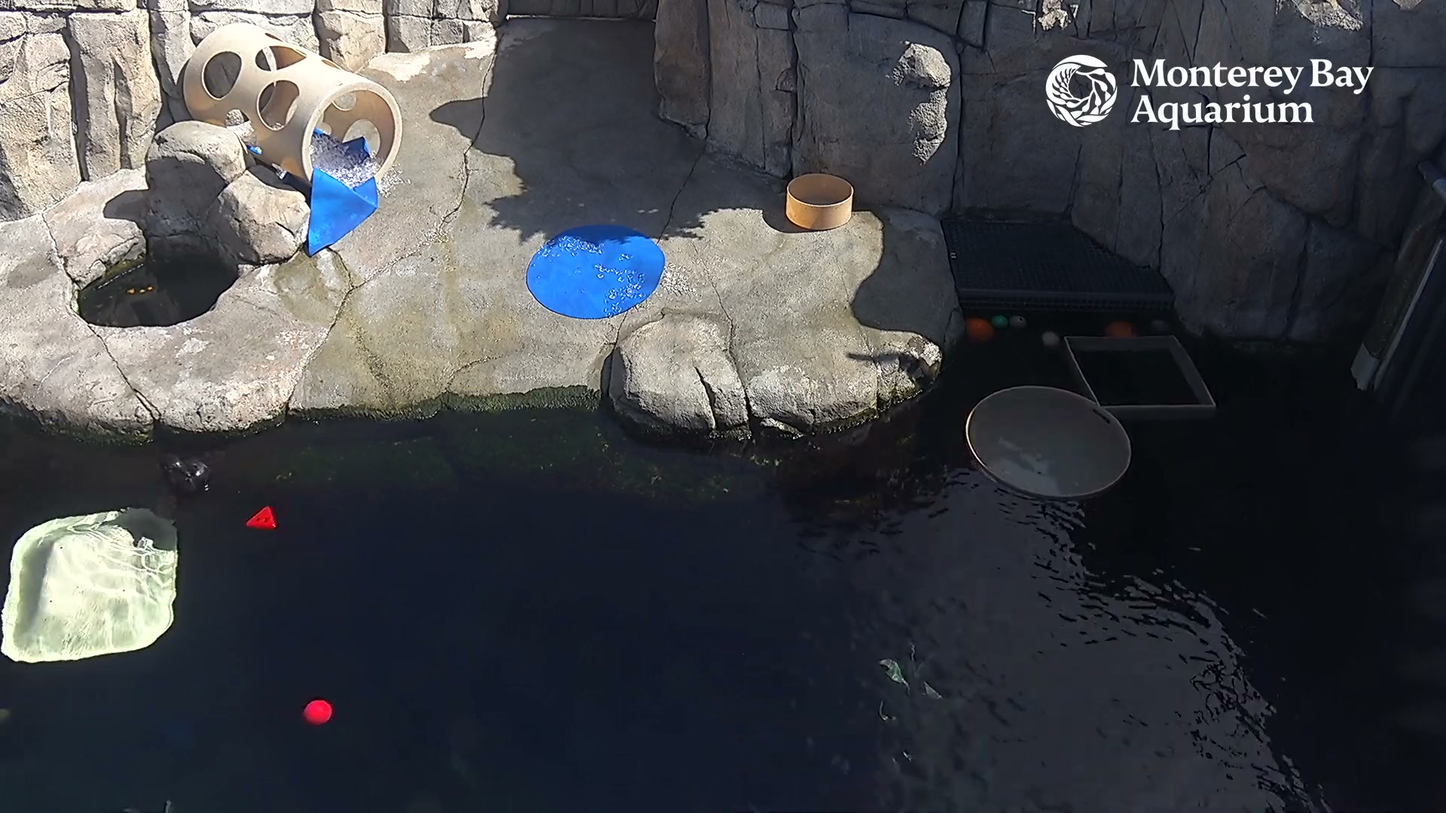Southern Sea Otter: (140, 430, 227, 505)
